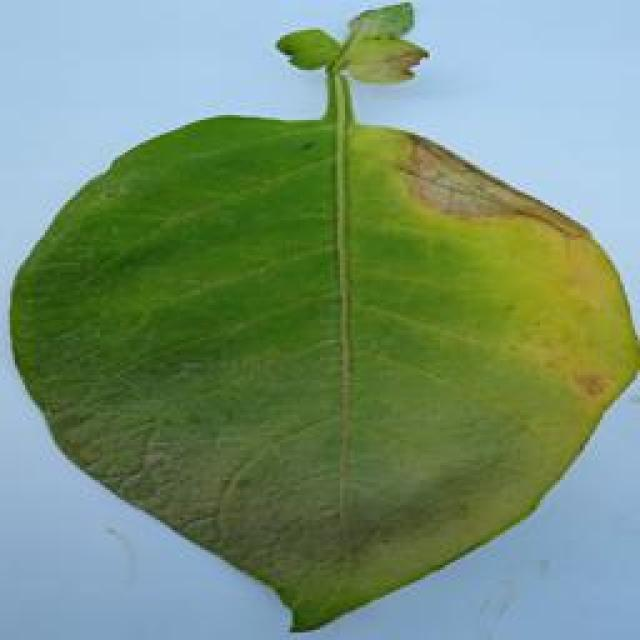Potato_Late_Blight: (13, 11, 629, 635)
